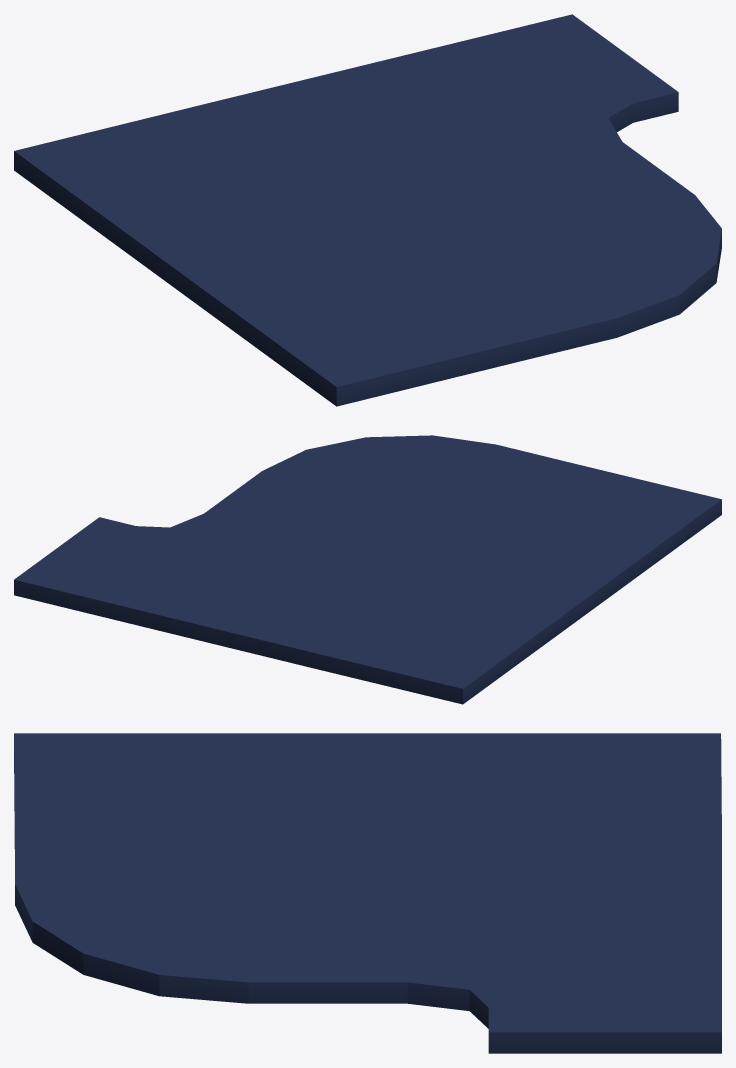
File: Aracde_Loft.fbx
3 views of the same model, one above another, from view 1: azimuth 30°, elevation 25°; view 2: azimuth 150°, elevation 25°; view 3: azimuth 270°, elevation 25° (orthographic). The views are drawn at different scales.
Parts seen in each view (by area): view 1: Plane.472; view 2: Plane.472; view 3: Plane.472.
Part boxes in pixels (x1,y1,x2,y2): Plane.472: (14,14,721,406); Plane.472: (14,435,721,704); Plane.472: (14,733,721,1053).
Size of the model in its own units: 600 by 20 by 601.
